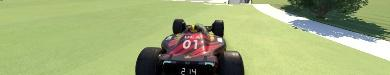Car: (134, 18, 244, 74)
Solid White and black: (251, 2, 389, 74)
Tree: (287, 0, 368, 19)
grass: (0, 0, 389, 74)
